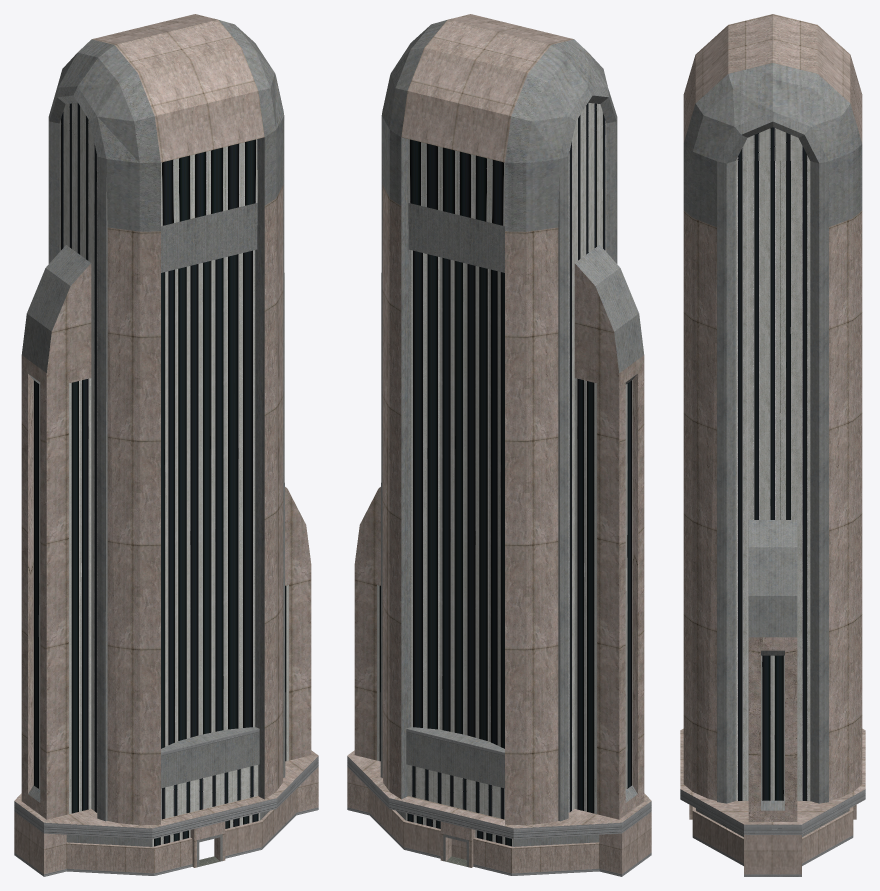
The model's file is thm_corl_skyskraper_s04_r0_mesh_l1.fbx.
The picture shows the model from 3 angles, left to right: view 1: azimuth 30°, elevation 25°; view 2: azimuth 150°, elevation 25°; view 3: azimuth 270°, elevation 25°; orthographic projection. The views are drawn at different scales.
Parts seen in each view (by area): view 1: mesh_node; view 2: mesh_node; view 3: mesh_node.
Part boxes in pixels (x1,y1,x2,y2): mesh_node: [14, 14, 318, 876]; mesh_node: [347, 14, 651, 876]; mesh_node: [680, 14, 865, 876].
Size of the model in its own units: 53 by 148 by 32.
